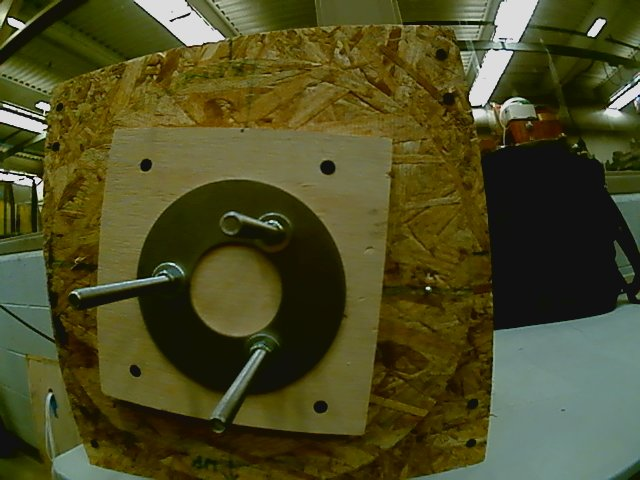bolt: (218, 211, 243, 237), (206, 414, 228, 436), (68, 290, 83, 311)
